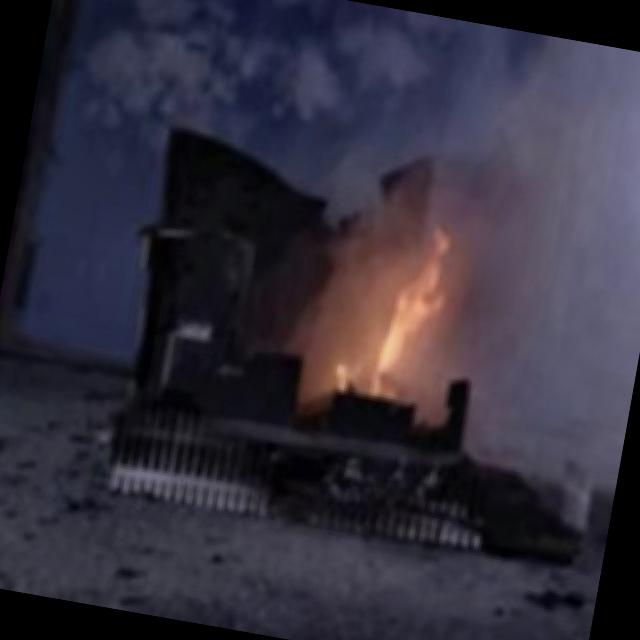fire: (316, 195, 488, 438)
smoke: (397, 16, 640, 299)
